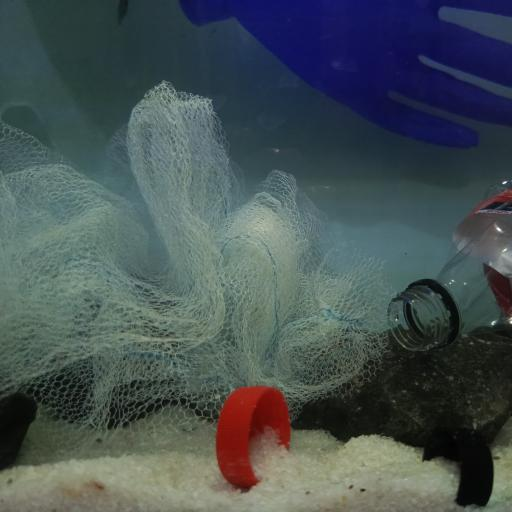bottle_cap: (216, 385, 290, 489), (421, 428, 494, 509)
glove: (178, 0, 512, 149)
net: (0, 80, 395, 440)
plastic_bottle: (387, 178, 512, 353)
